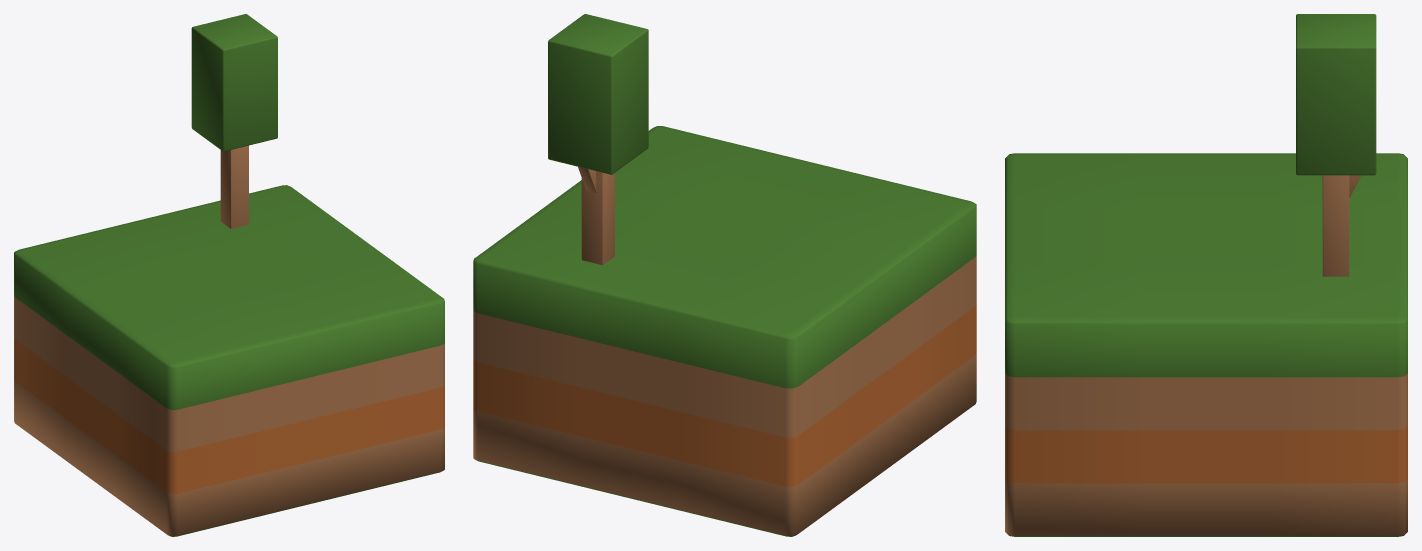
File: Obstaculo_arbol.fbx
3 renders of one model, left to right at view 1: azimuth 30°, elevation 25°; view 2: azimuth 150°, elevation 25°; view 3: azimuth 270°, elevation 25°, orthographic. The views are drawn at different scales.
Parts seen in each view (by area): view 1: Tree_Green2; view 2: Tree_Green2; view 3: Tree_Green2.
Boxes of the visible parts, bbox=[...] form: Tree_Green2: bbox=[14, 14, 444, 536]; Tree_Green2: bbox=[473, 14, 976, 536]; Tree_Green2: bbox=[1005, 14, 1407, 536].
Bounding box in the file's own units: 200 × 251 × 200.
